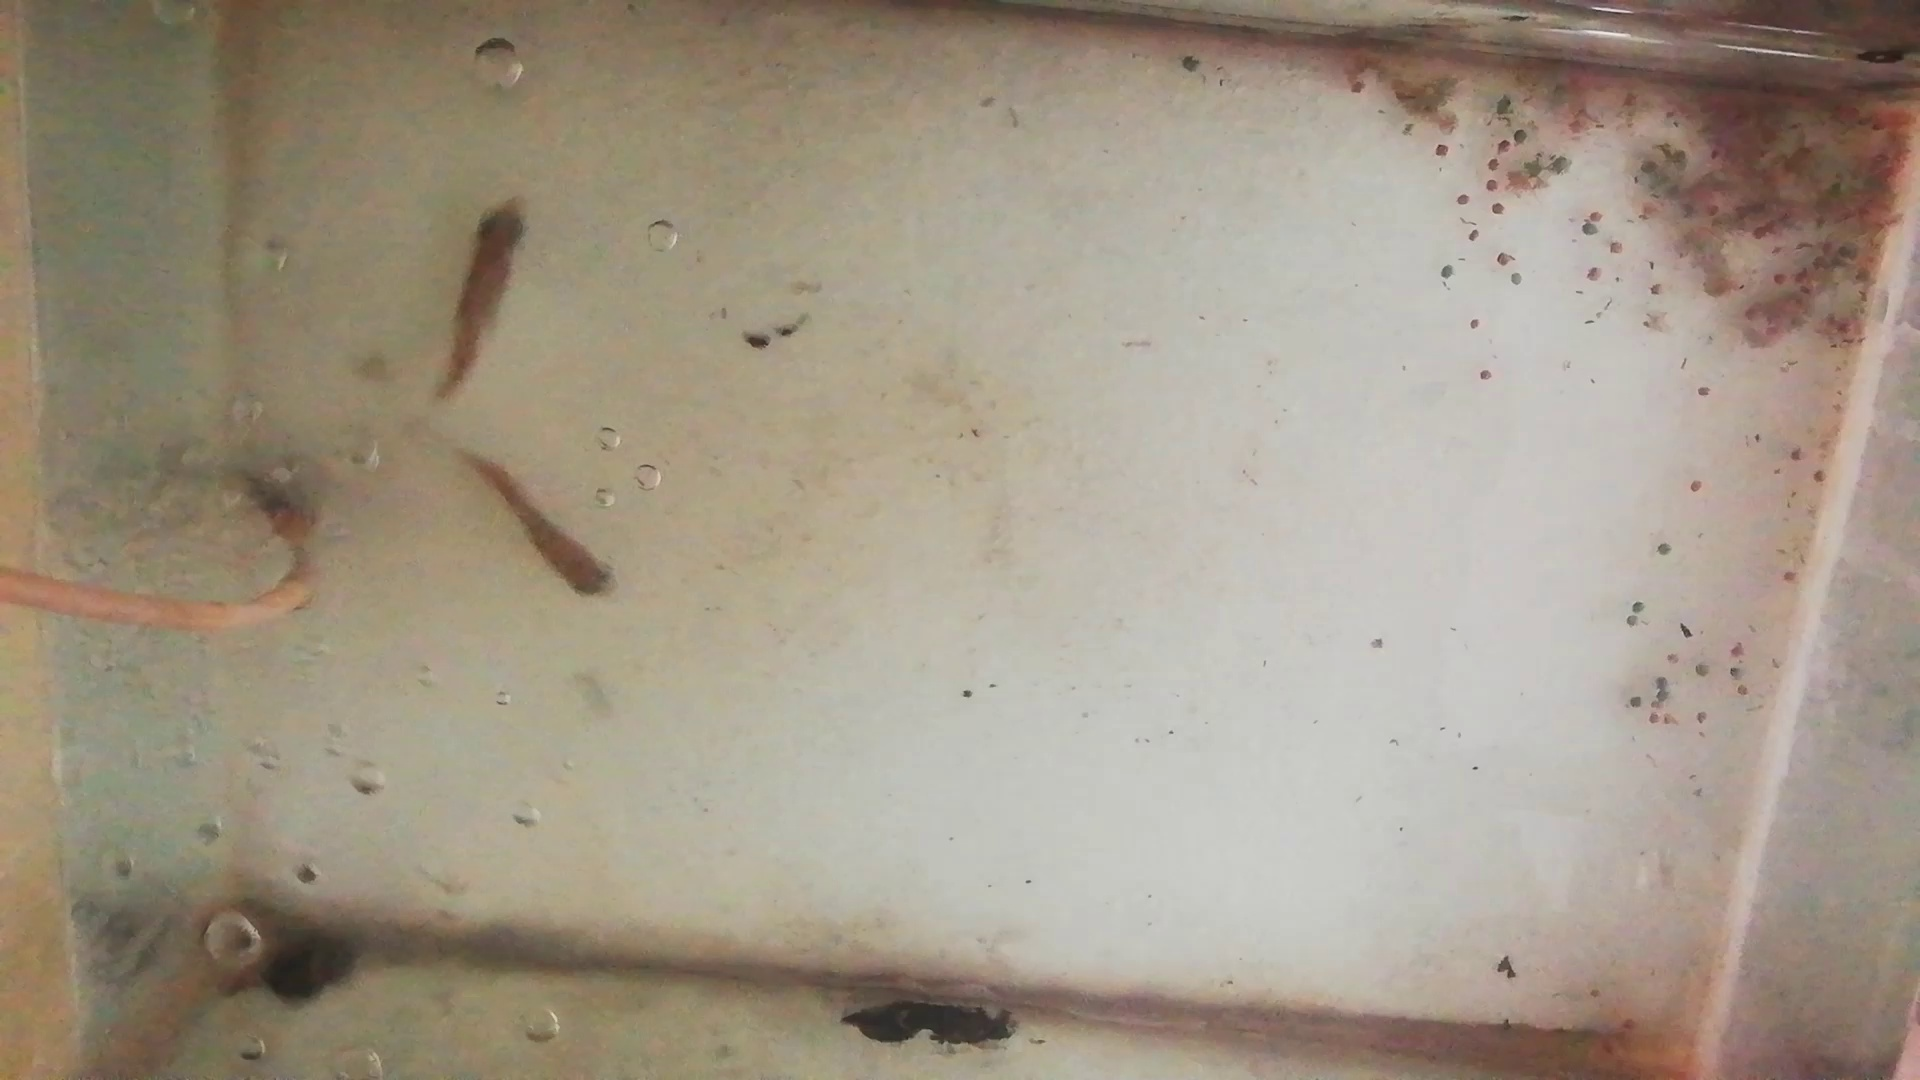fish: (452, 450, 618, 603), (440, 190, 527, 411)
